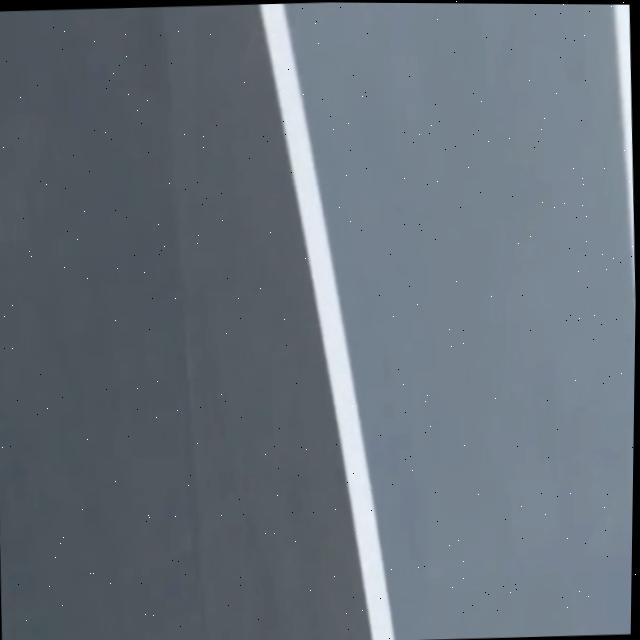left: (260, 3, 395, 640)
